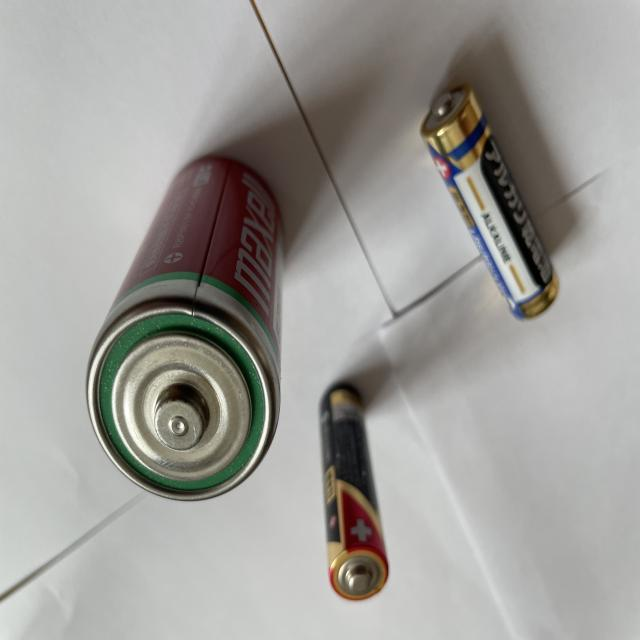hazardous waste: (86, 153, 286, 502), (421, 83, 558, 314), (318, 384, 390, 603)
